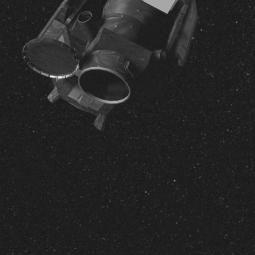cheops: (34, 0, 195, 117)
